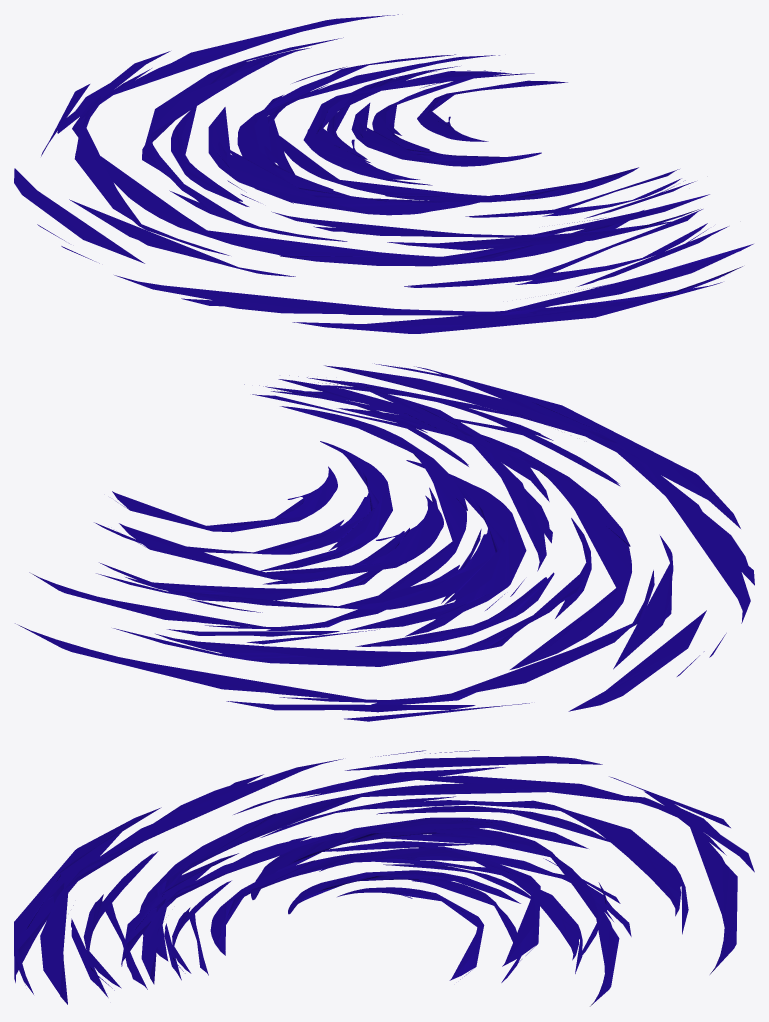
Rendered from Heaven-Piercer.glb.
3 views of the same model, one above another, from view 1: azimuth 30°, elevation 25°; view 2: azimuth 150°, elevation 25°; view 3: azimuth 270°, elevation 25° (orthographic). The views are drawn at different scales.
Visible parts, largest first — view 1: 円; view 2: 円; view 3: 円.
Part boxes in pixels (box(x1,y1,x2,y2)): 円: box(14, 14, 753, 333); 円: box(15, 363, 754, 721); 円: box(14, 750, 754, 1006).
Size of the model in its own units: 20.33 by 1.86 by 23.83.
